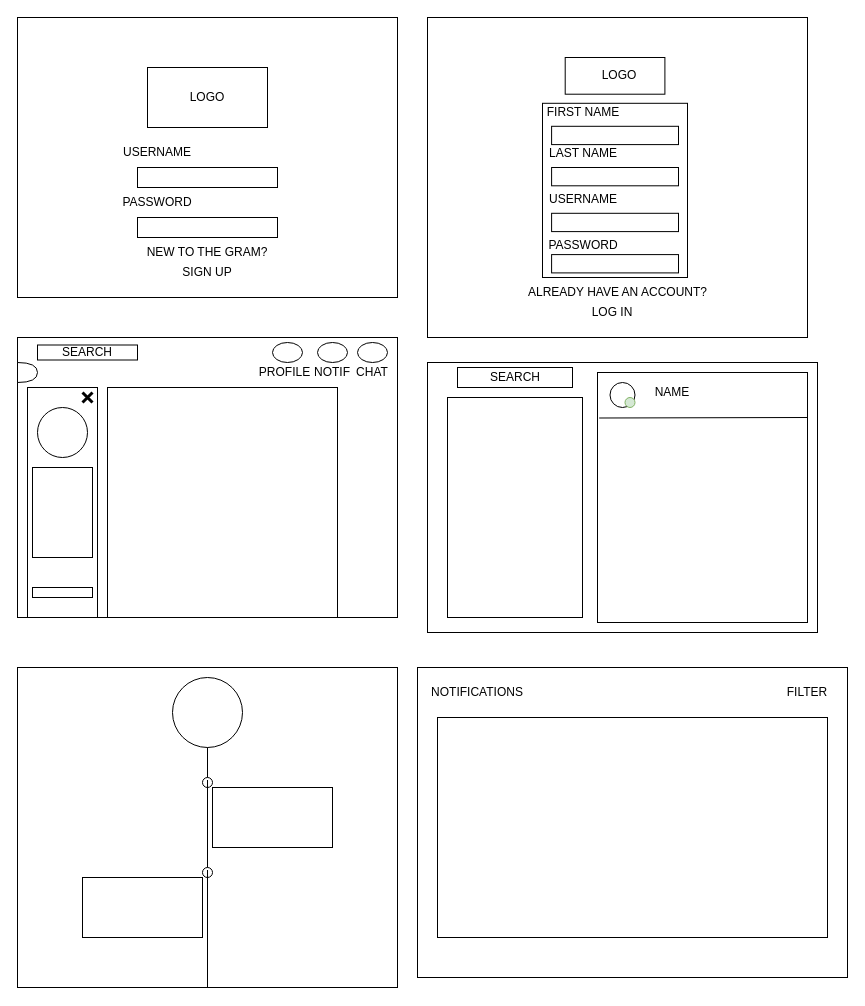
The diagram is 865 pixels wide and 1006 high, and some of its shapes have lost their labels. The shapes that lost their labels are listed below. From the top down, each one's centre as x and y in pixels, then its label:
At pixel 222 502: "HOME PAGE".
At pixel 514 507: "CHATS".
